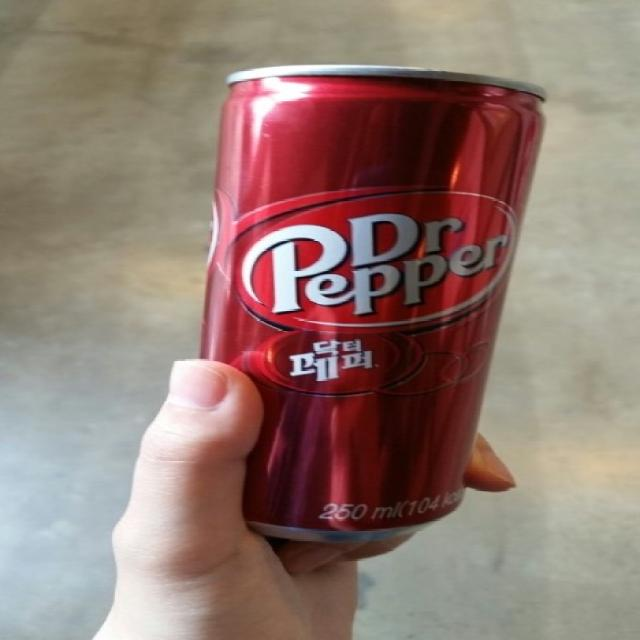Cans: (148, 54, 566, 558)
